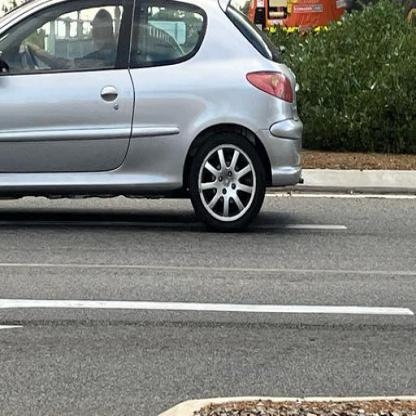Tire: (188, 132, 267, 230)
